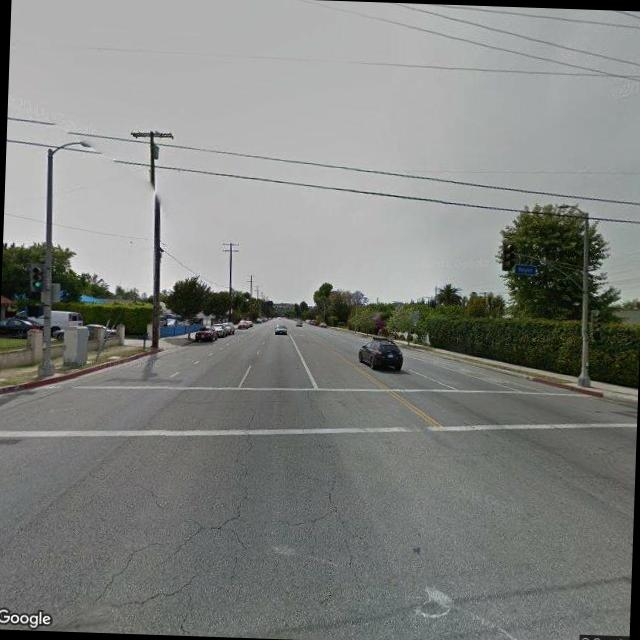crack: (86, 454, 368, 640)
